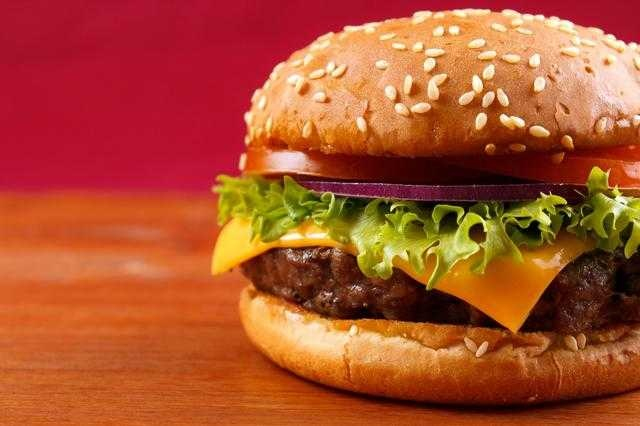hamburger: (222, 8, 640, 403)
